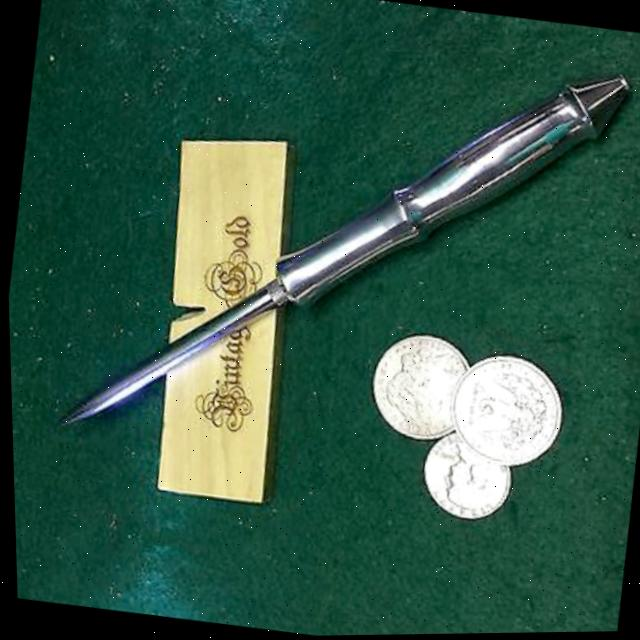ice pick: (51, 4, 640, 495)
